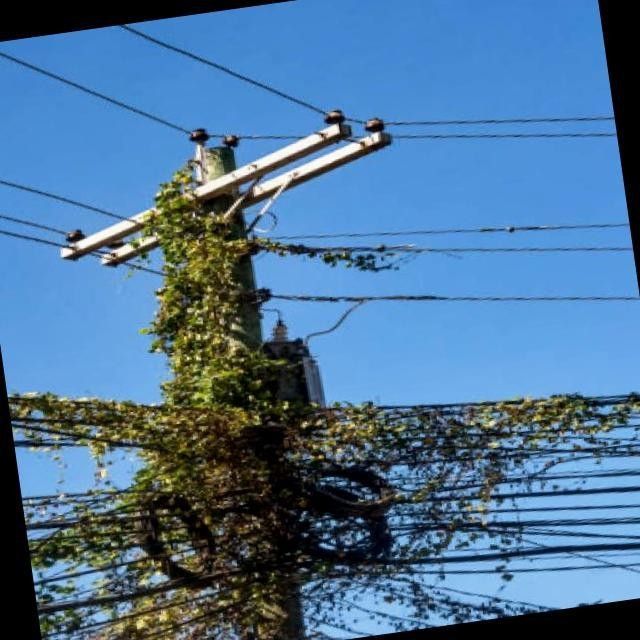light_pole: (92, 136, 350, 640)
